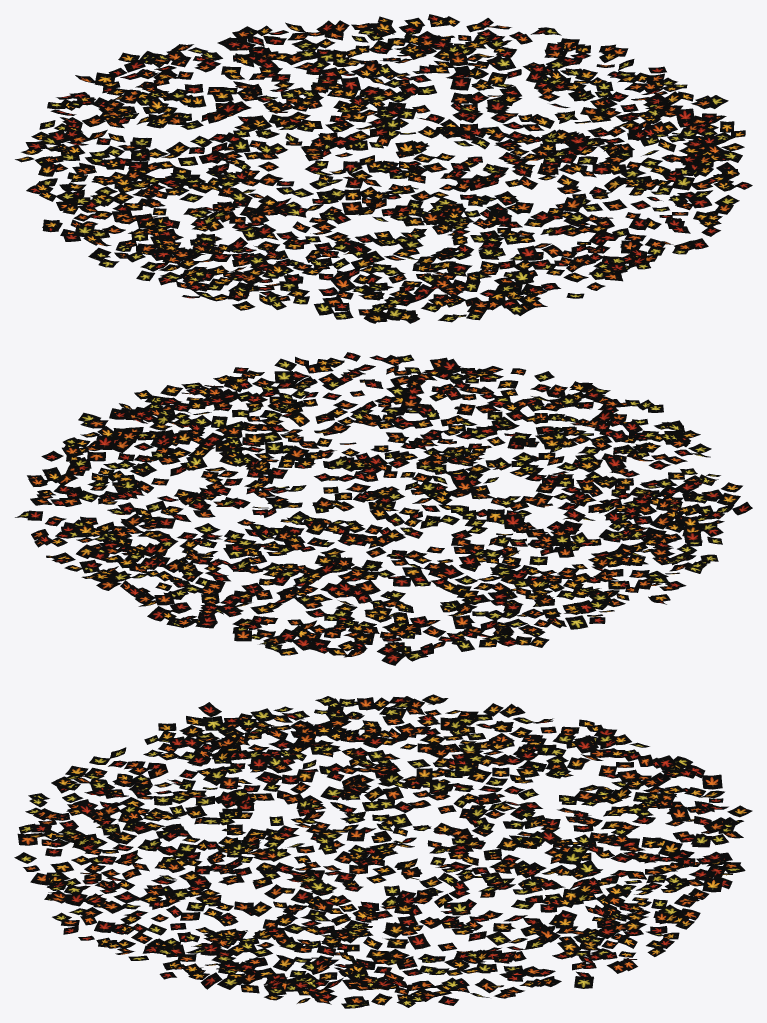
The model's file is Tree_FallenLeaves.fbx.
The picture shows the model from 3 angles, top to bottom: view 1: azimuth 30°, elevation 25°; view 2: azimuth 150°, elevation 25°; view 3: azimuth 270°, elevation 25°; orthographic projection. The views are drawn at different scales.
Visible parts, largest first — view 1: Tree_FallenLeaves; view 2: Tree_FallenLeaves; view 3: Tree_FallenLeaves.
Part boxes in pixels (<box>): Tree_FallenLeaves: <box>15,14,752,323</box>; Tree_FallenLeaves: <box>15,352,752,665</box>; Tree_FallenLeaves: <box>14,694,752,1008</box>.
Size of the model in its own units: 5.77 by 0.1281 by 5.69.
